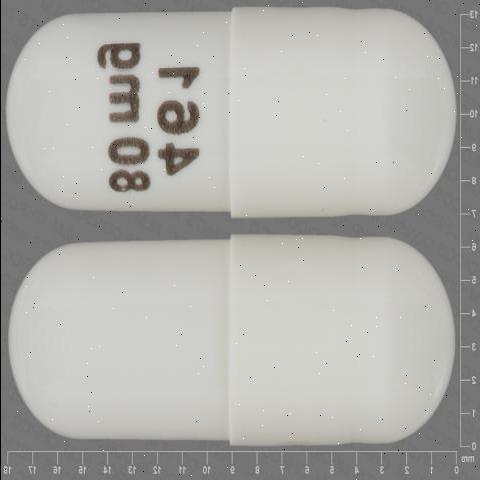Pill: (4, 222, 470, 456), (6, 0, 469, 228)
